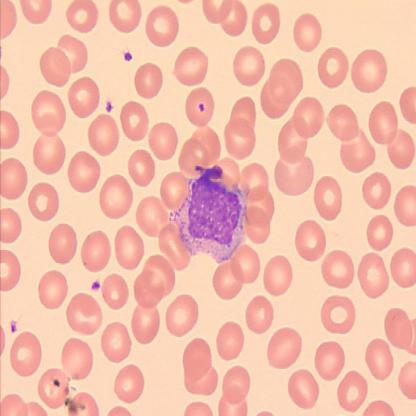Myelocyte: (172, 165, 250, 260)
